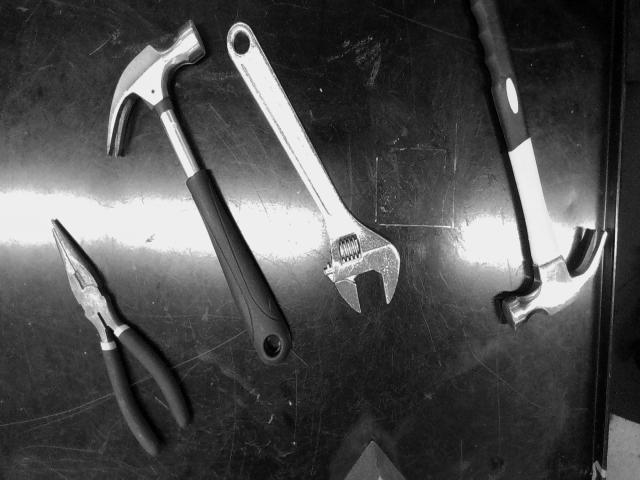Adjustable spanner: (228, 22, 399, 313)
Hammer: (106, 21, 291, 365), (471, 0, 608, 328)
Needle-nose pliers: (51, 220, 190, 455)
